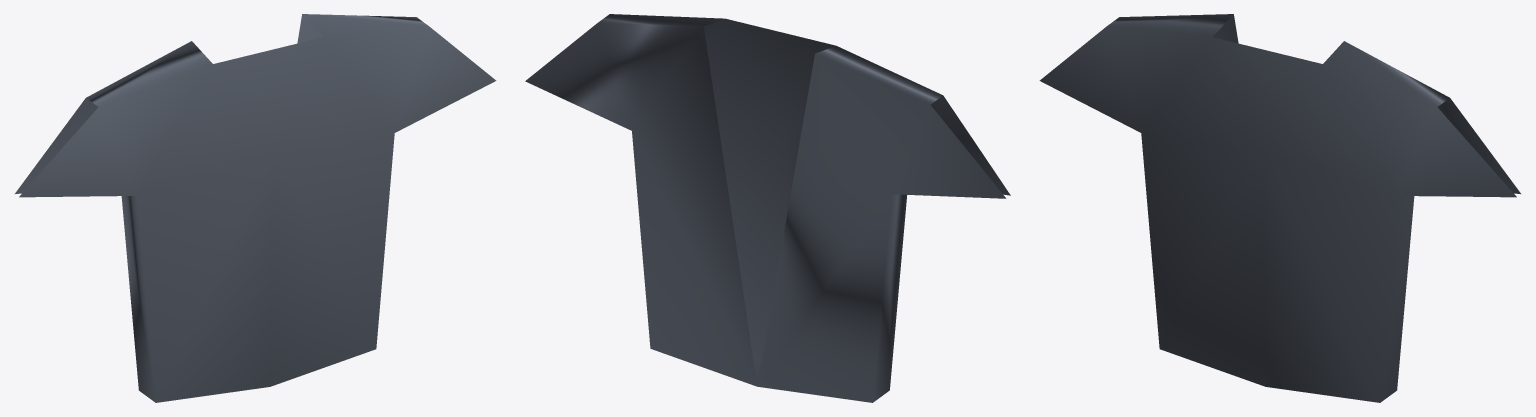
The model's file is blazer-jacket.glb.
3 renders of one model, left to right at view 1: azimuth 30°, elevation 25°; view 2: azimuth 150°, elevation 25°; view 3: azimuth 330°, elevation 25°, orthographic.
Visible parts, largest first — view 1: Bespoke_Italian_Blazer; view 2: Bespoke_Italian_Blazer; view 3: Bespoke_Italian_Blazer.
Boxes of the visible parts, left/top/right/bottom form: Bespoke_Italian_Blazer: left=15, top=14, right=496, bottom=402; Bespoke_Italian_Blazer: left=525, top=14, right=1010, bottom=402; Bespoke_Italian_Blazer: left=1039, top=14, right=1520, bottom=402.
Size of the model in its own units: 1.3 by 0.89 by 0.14.
